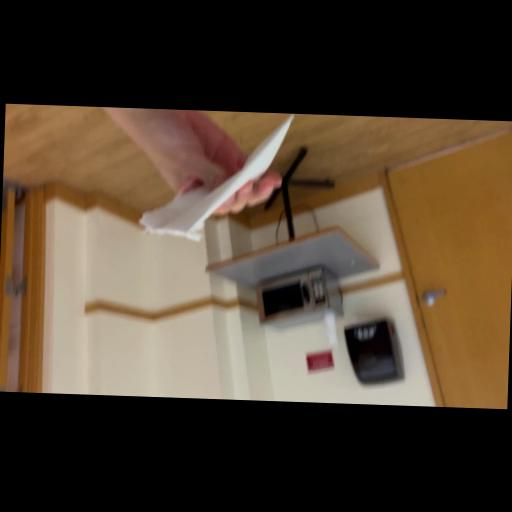napkin: (118, 108, 328, 286)
